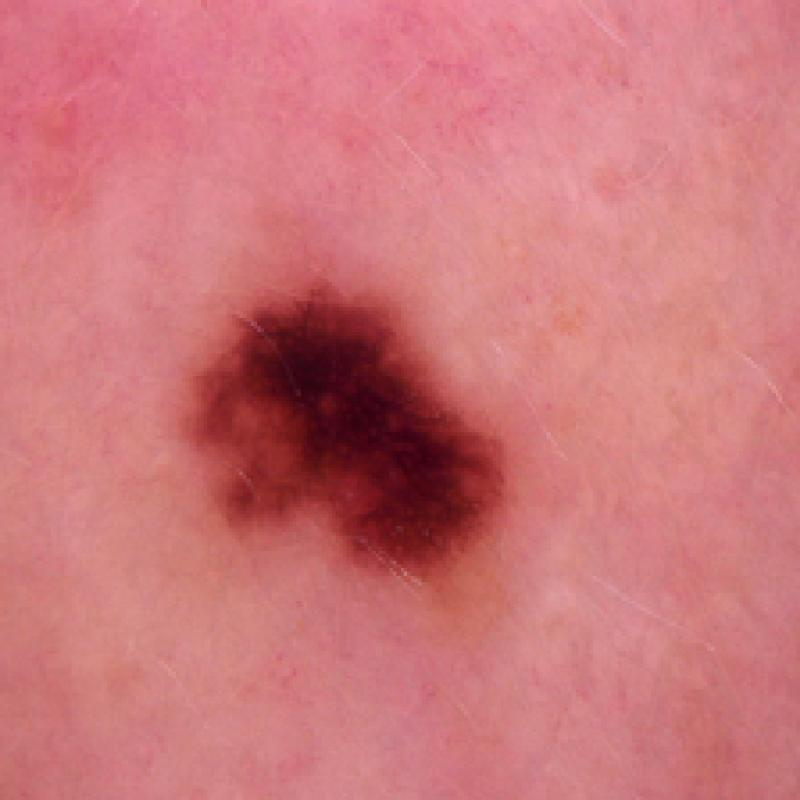benign: (184, 270, 524, 583)
